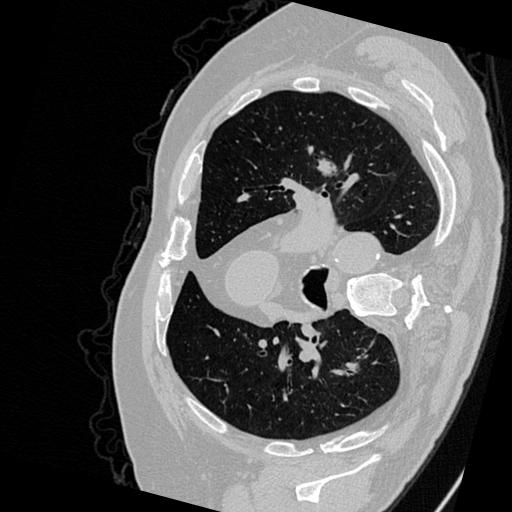nodule: (312, 155, 340, 183)
